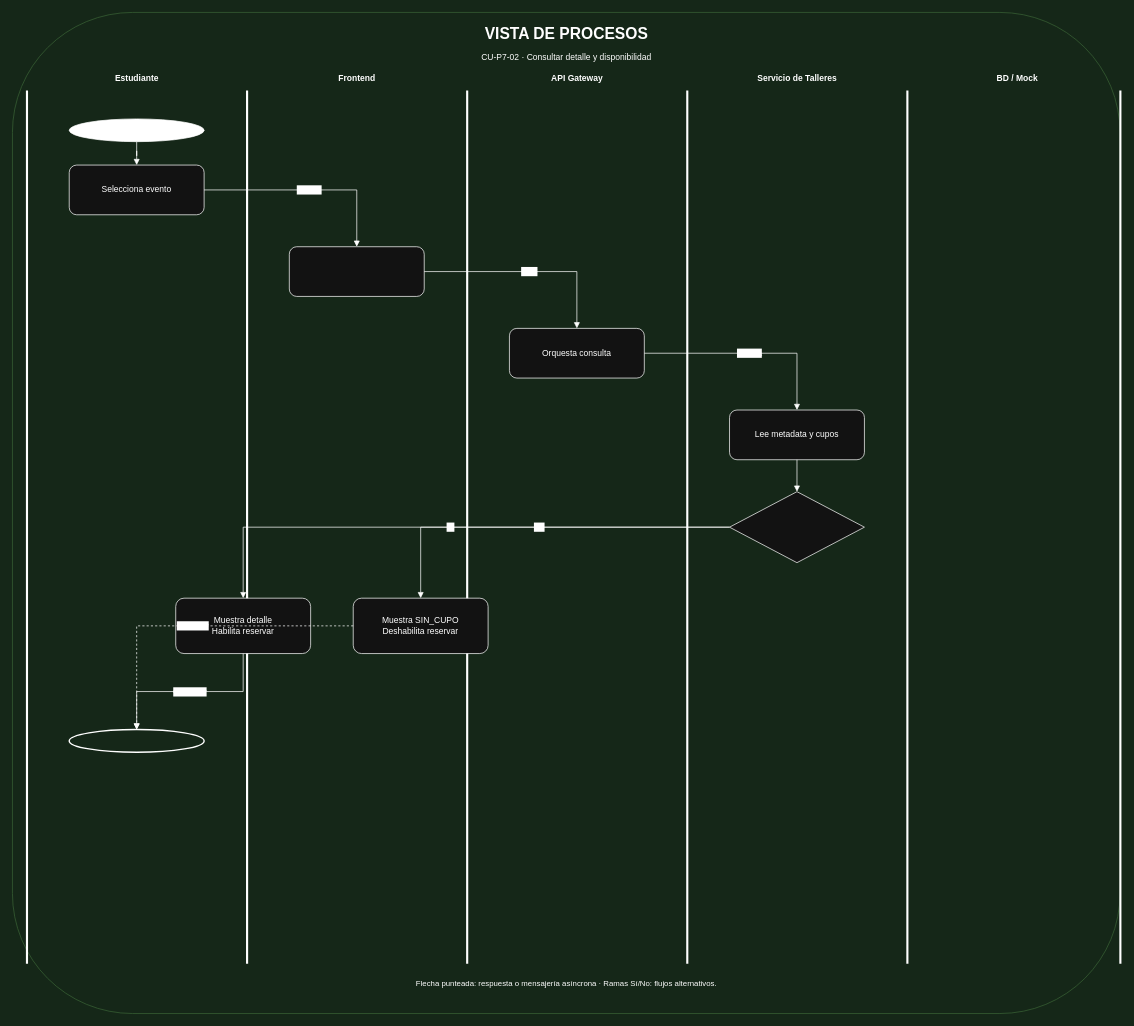
The diagram is 1134 pixels wide and 1026 high, and some of its shapes have lost their labels. Here are the shapes that lost their labels. From the top down, the centre of each, then its label:
the point at 356,271: Solicita detalle GET /events/{id}
the point at 796,527: ¿Cupo disponible?
